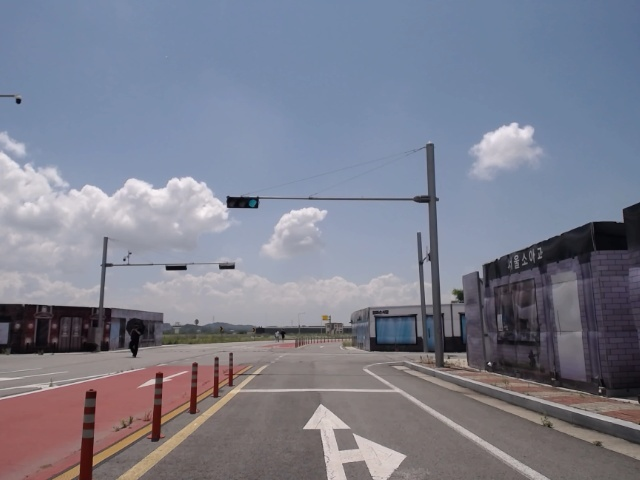green_3: (228, 196, 259, 208)
